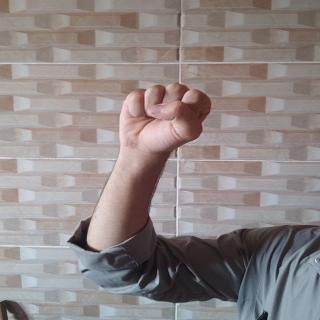SAD: (112, 78, 214, 168)
